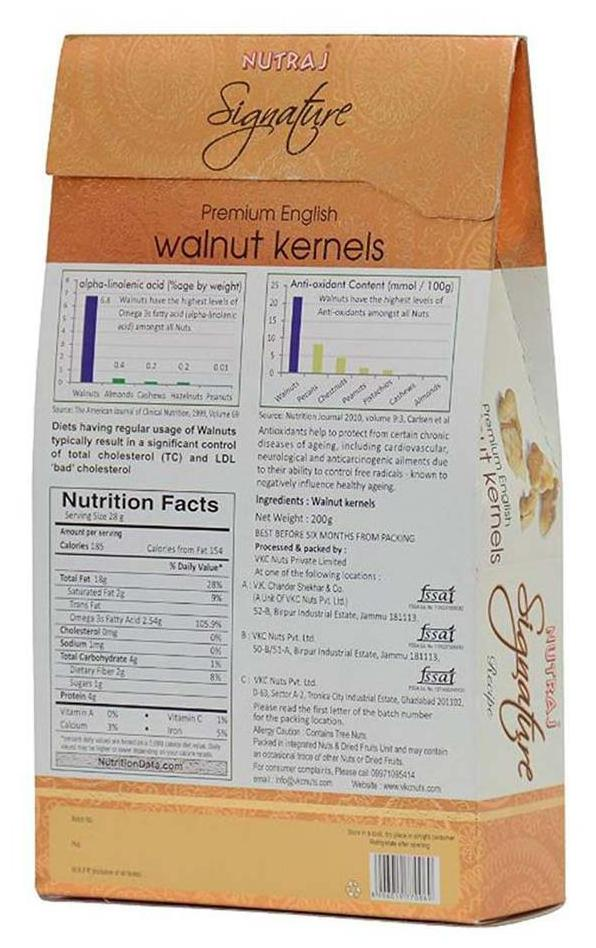fssai: (418, 622, 458, 643), (418, 666, 458, 685), (417, 584, 455, 604)
